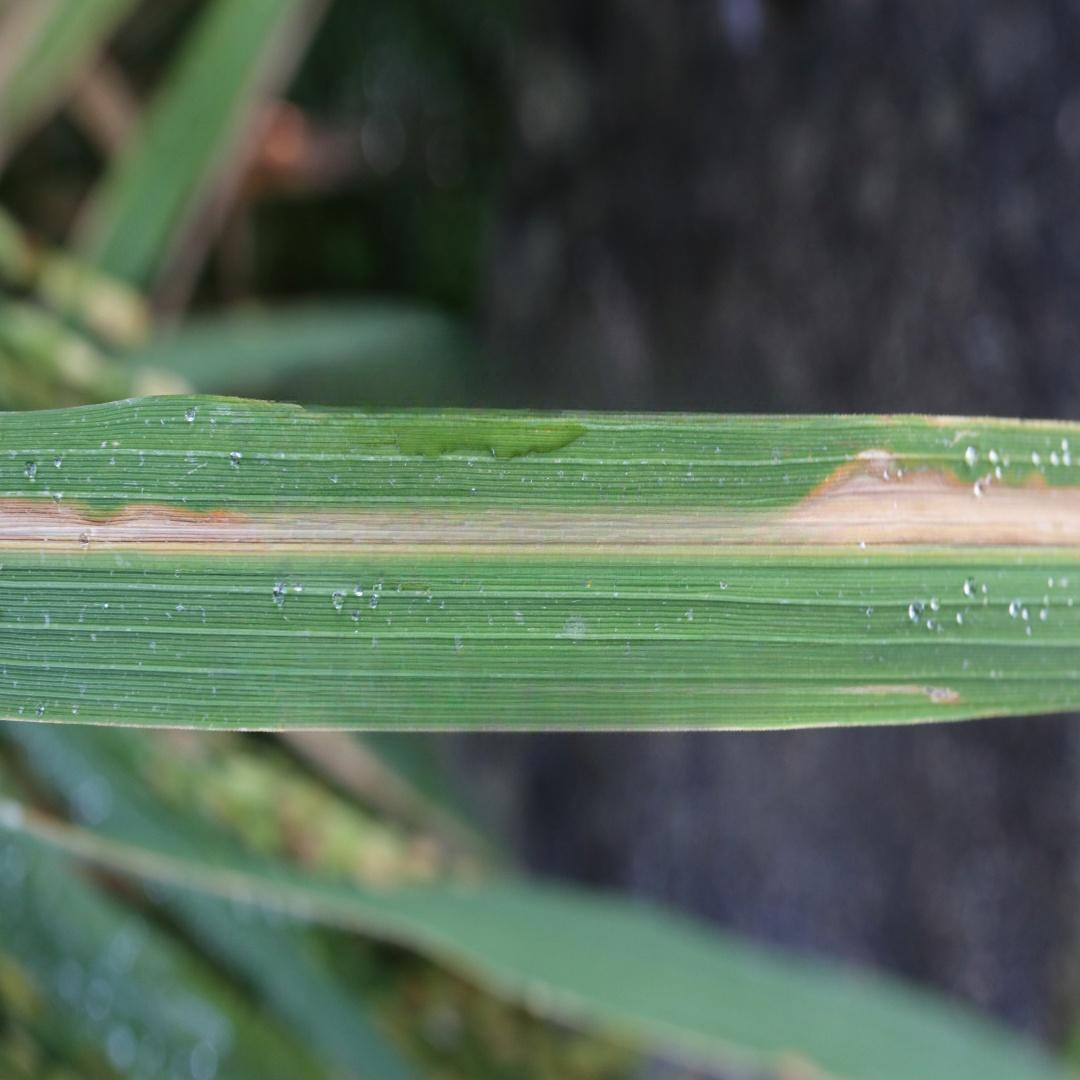BLB: (3, 447, 1078, 557)
LEAF: (0, 396, 1079, 730)
